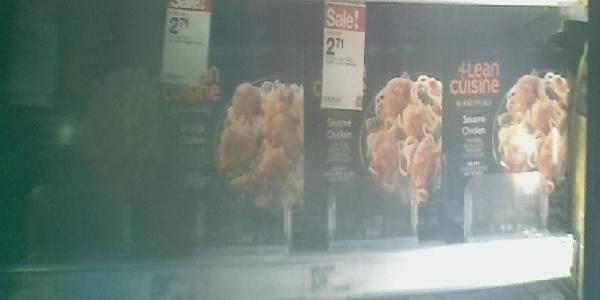pizza1: (2, 11, 161, 257), (163, 50, 312, 249), (314, 41, 443, 238), (448, 57, 576, 226)
